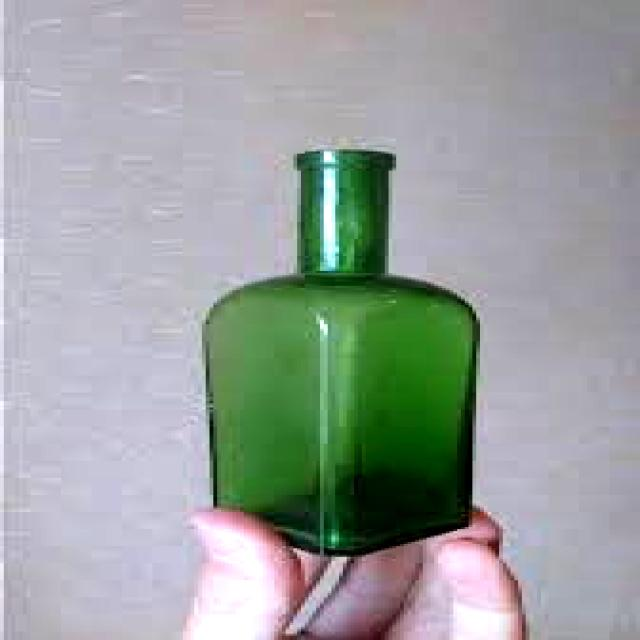Glass: (183, 142, 495, 561)
